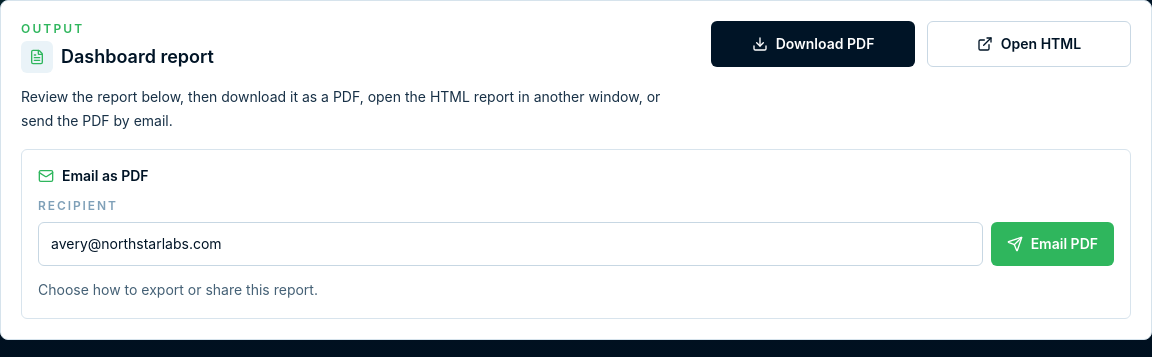
Test: FounderWorkspace › emails the report as a PDF from the report export panel
The width and height of the screenshot is (1152, 357).
Replace the text in the field labelled "Recipient" with "investor@example.com" at {"x": 510, "y": 244}, box 38,222 -> 983,266
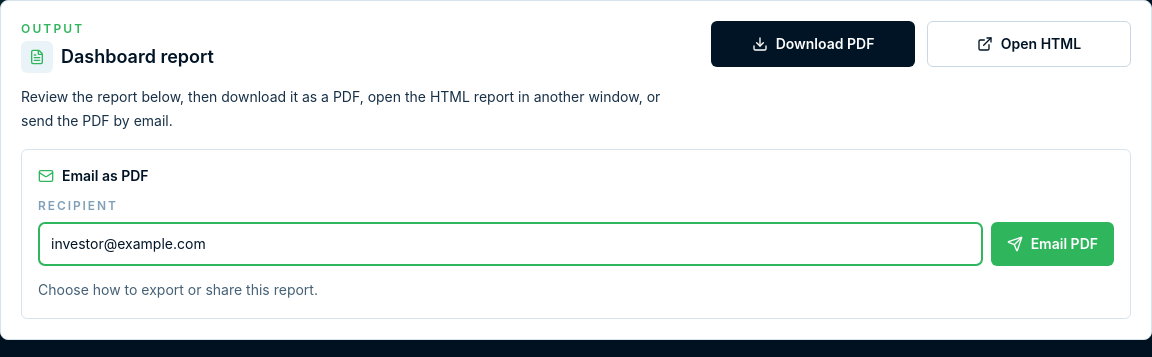
Click the button "Email PDF" at {"x": 1052, "y": 244}, box 991,222 -> 1114,266
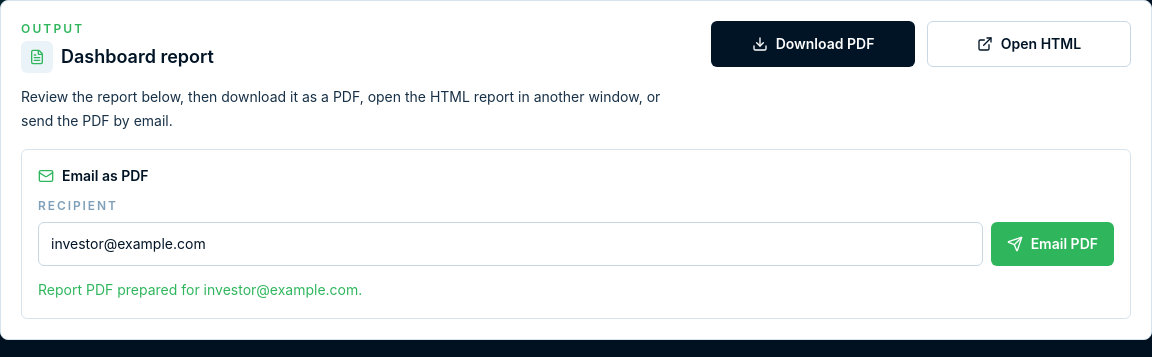
Now the text "Report PDF prepared for investor@example.com." is shown, box 38,281 -> 362,298
